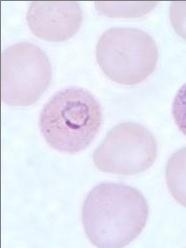Infected: (40, 86, 102, 154)
Uninfected: (81, 184, 150, 248), (96, 26, 158, 85), (94, 121, 158, 174), (0, 43, 52, 106), (27, 0, 82, 42)
